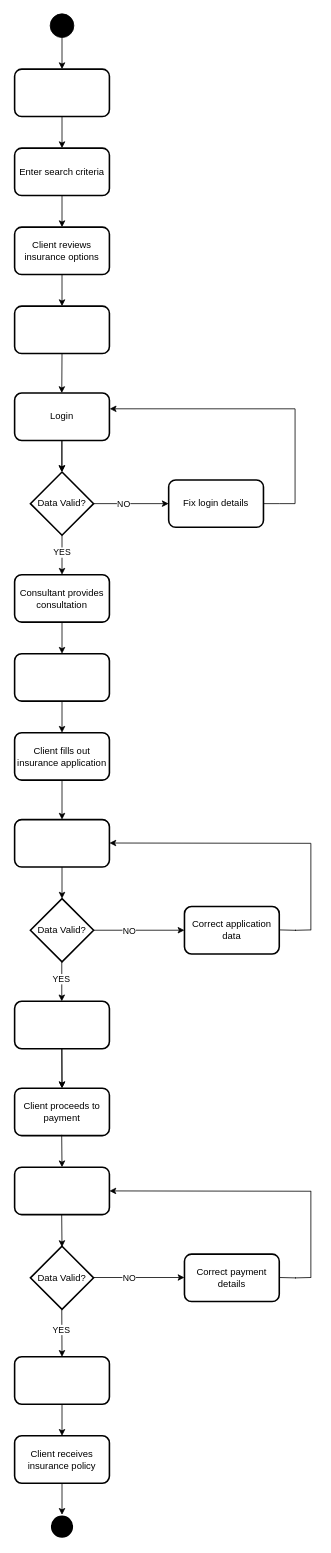
Some shapes in this 331 by 1553 pixel diagram are drawn without their labels. Here are the shapes that lost their labels. From the top down, the box of each, then its label:
(13, 68, 110, 117): Client initiates search
(13, 305, 110, 354): Client requests consultation
(13, 653, 110, 702): Client makes a decision on selection
(13, 818, 110, 867): Consultant verifies application
(13, 1000, 110, 1049): Client reviews and confirms policy details
(13, 1166, 110, 1215): Client enters payment details
(13, 1356, 110, 1405): Payment successful
